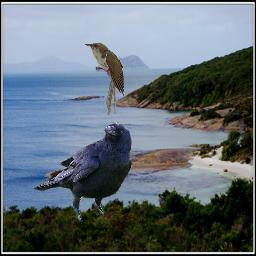Crow: (33, 122, 132, 222)
Cuckoo: (84, 42, 124, 115)
